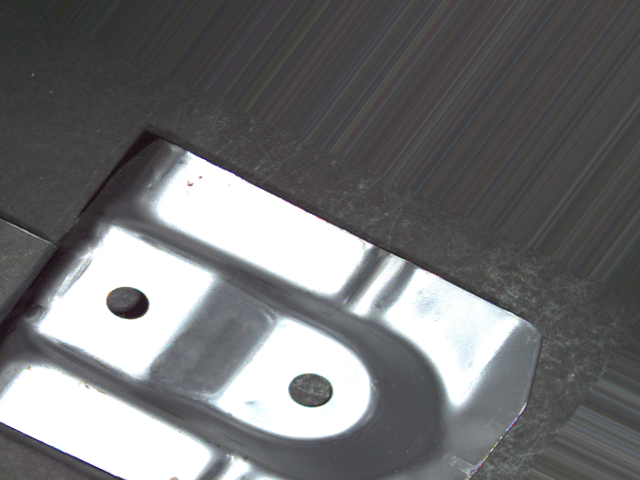defect: (285, 368, 336, 412)
